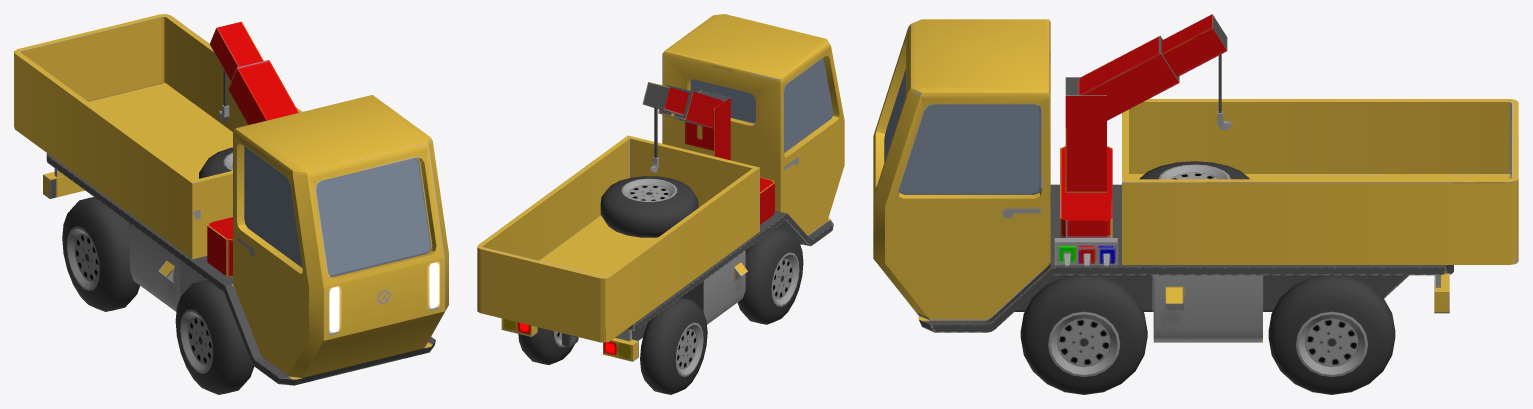
File: grua.glb
3 views of the same model, side by side, from view 1: azimuth 30°, elevation 25°; view 2: azimuth 150°, elevation 25°; view 3: azimuth 270°, elevation 25° (orthographic). The views are drawn at different scales.
Parts seen in each view (by area): view 1: TowTruck, Wheel_BR, Wheel_FR, Wheel_Extra; view 2: TowTruck, Wheel_BR, Wheel_Extra, Wheel_FR, Wheel_BL; view 3: TowTruck, Wheel_FL, Wheel_BL, Wheel_Extra.
Boxes of the visible parts, x1,y1,x2,y2 form: TowTruck: [14, 14, 448, 385]; Wheel_BR: [62, 197, 139, 311]; Wheel_FR: [175, 280, 254, 394]; Wheel_Extra: [199, 147, 232, 178]; TowTruck: [477, 14, 844, 361]; Wheel_BR: [640, 298, 707, 394]; Wheel_Extra: [600, 176, 698, 237]; Wheel_FR: [737, 227, 803, 324]; Wheel_BL: [518, 327, 575, 364]; TowTruck: [873, 14, 1518, 342]; Wheel_FL: [1020, 275, 1147, 394]; Wheel_BL: [1268, 275, 1395, 394]; Wheel_Extra: [1139, 161, 1249, 179].
Bounding box in the file's own units: 183 × 291 × 511.
1 material, 1 textured.
